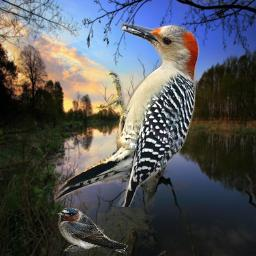Swallow: (56, 207, 128, 254)
Woodpecker: (48, 16, 219, 207)
